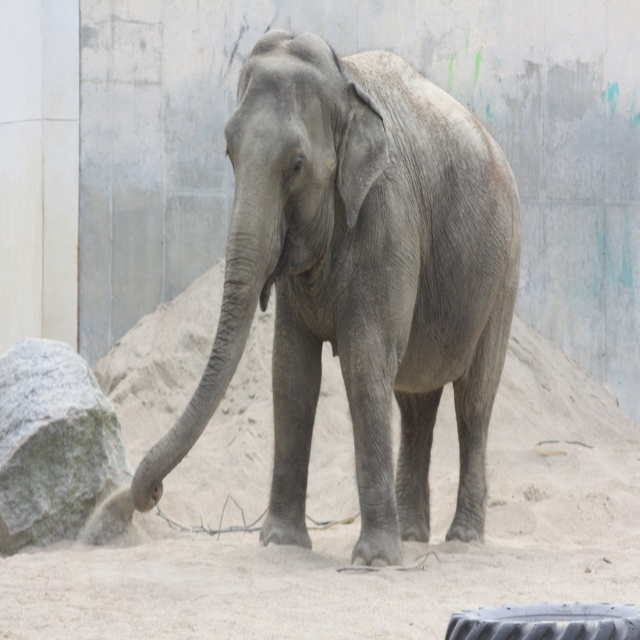Elephant: (132, 24, 522, 572)
